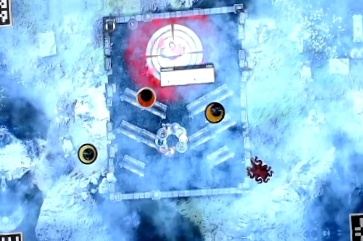giant_red_octopus: (243, 154, 277, 186)
lime_green_violet: (77, 143, 101, 167)
orange: (134, 85, 158, 109)
yellow_night_blue: (203, 100, 227, 124)
